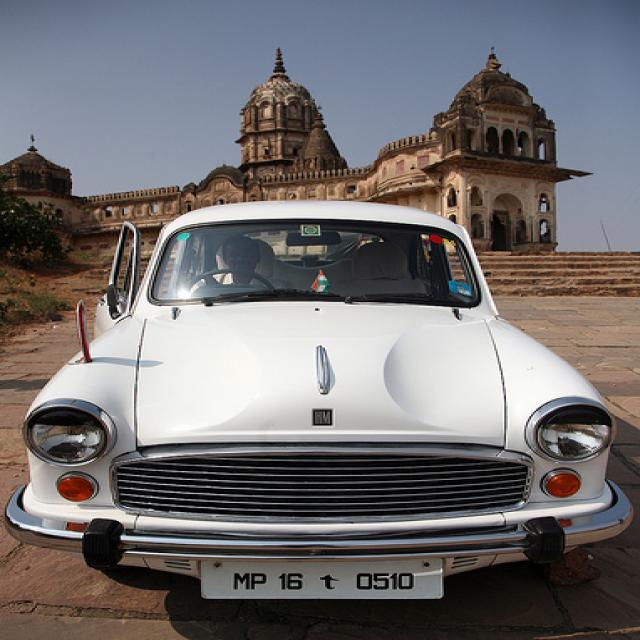Car: (0, 194, 637, 612)
